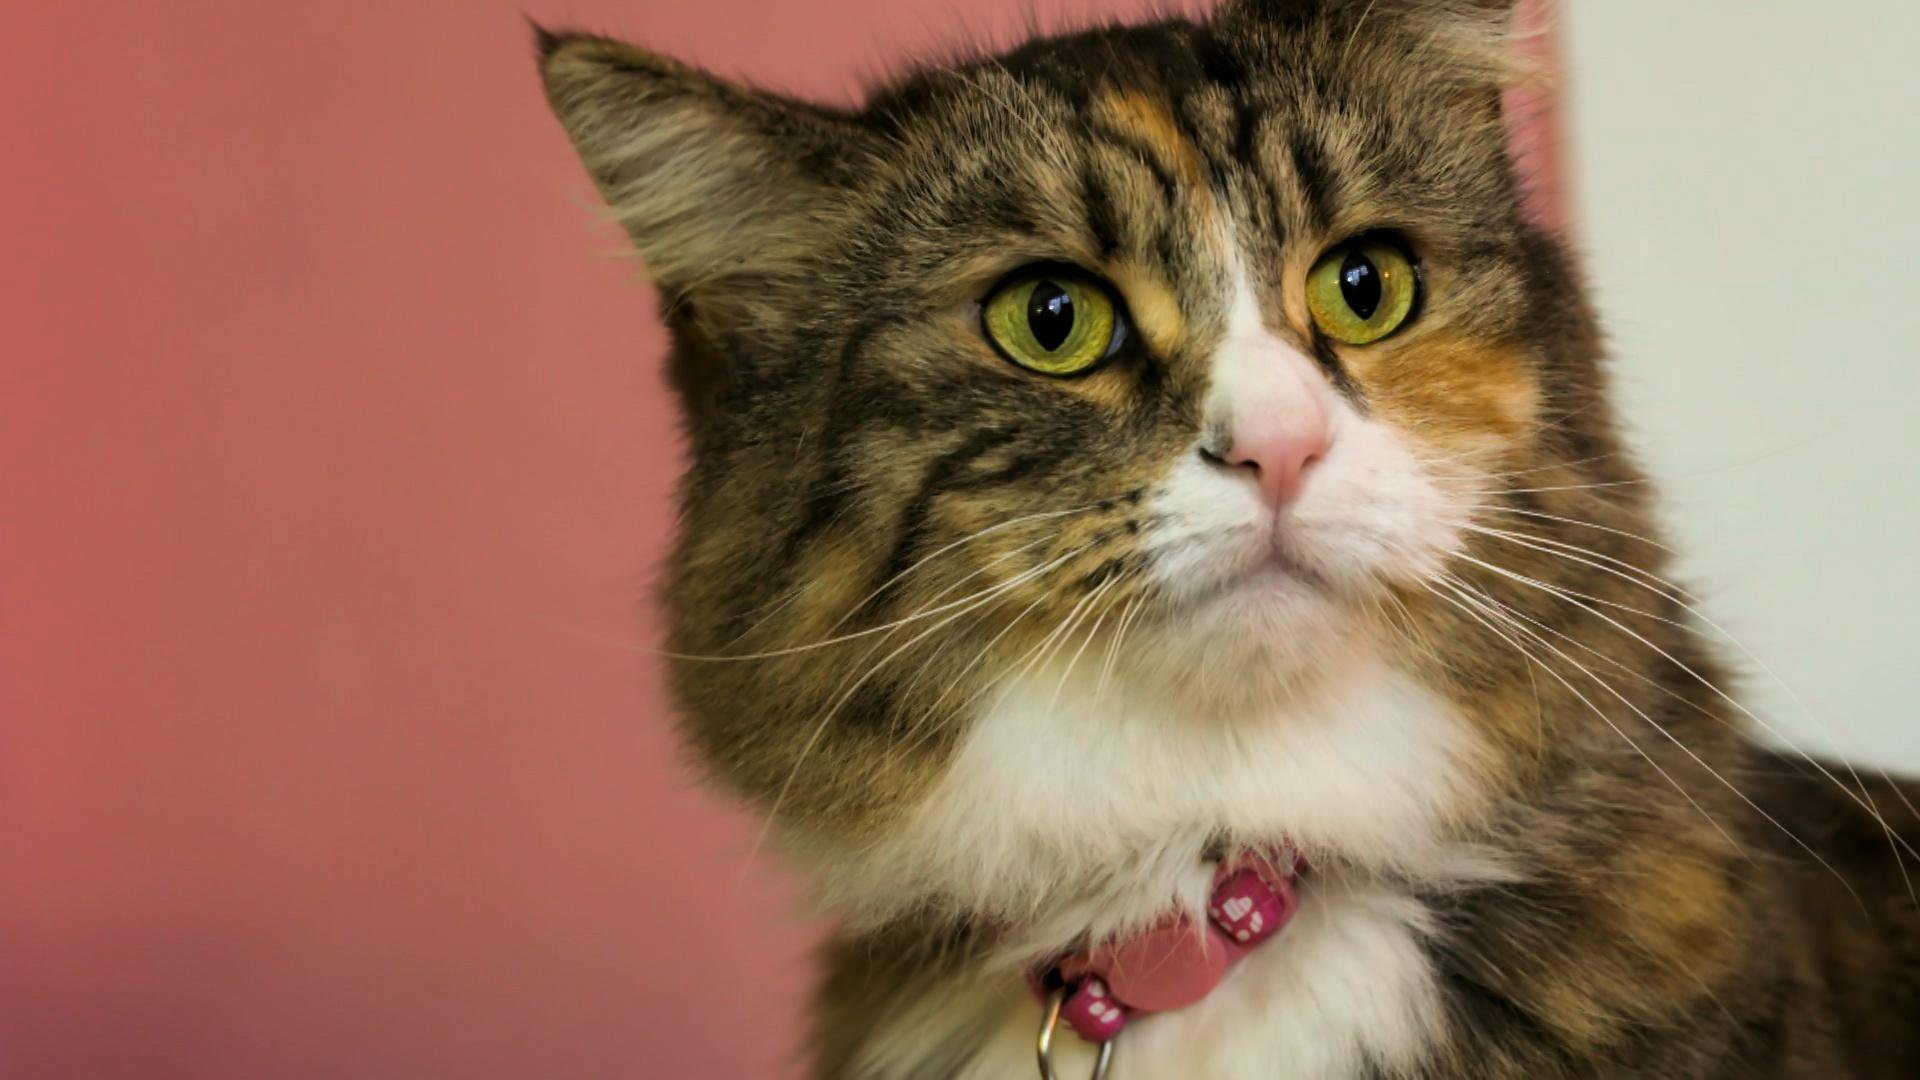cat: (501, 9, 1756, 869)
